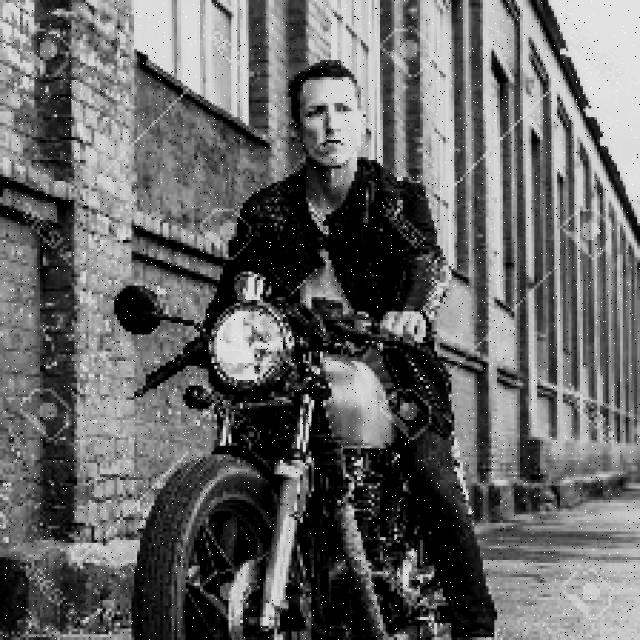Bike: (125, 282, 442, 640)
